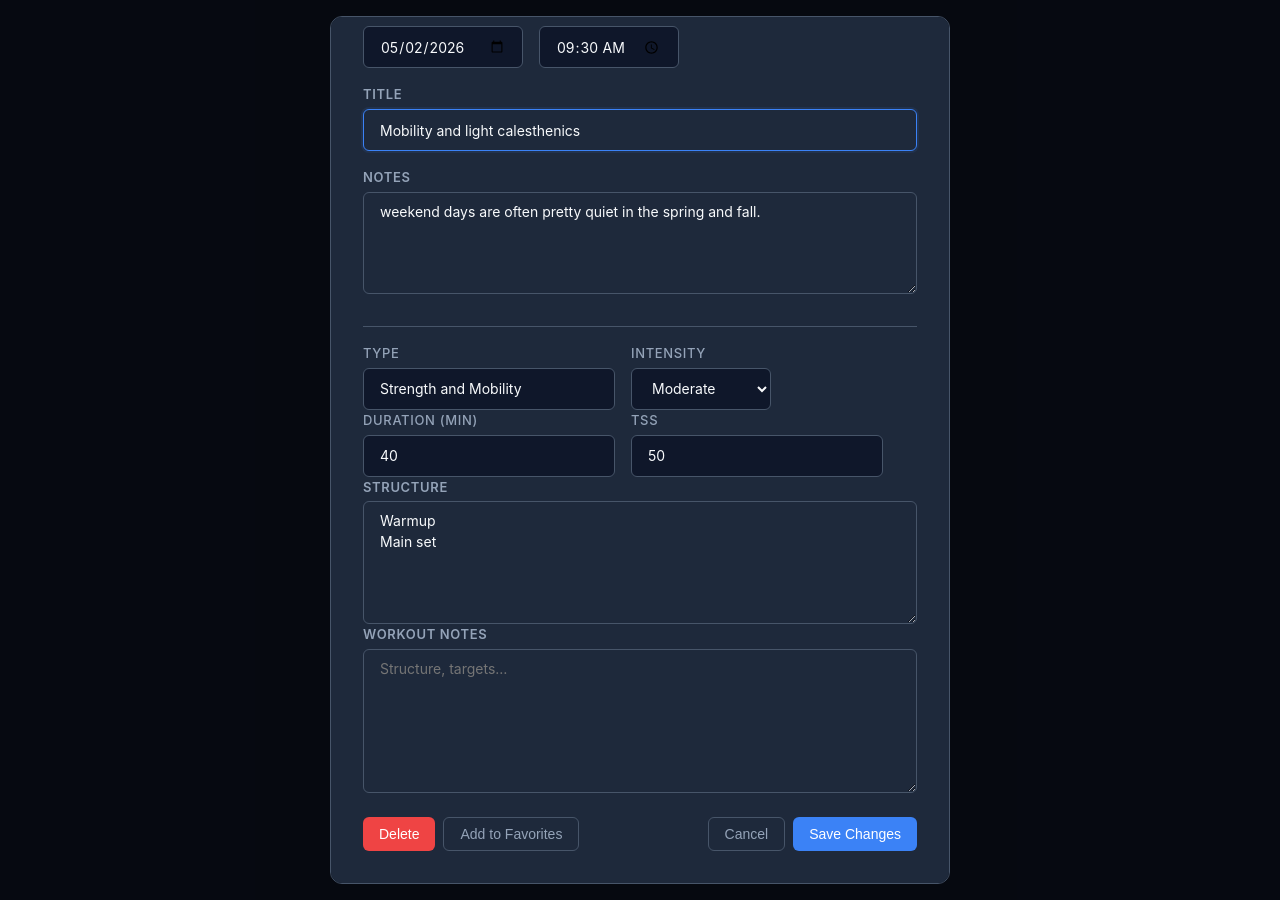
Test: EventModal favorites › adds an edited user-created workout to favorites from edit mode
(page scrolled)
Click the button "Add to Favorites" at (511, 834), box [444,817,579,851]
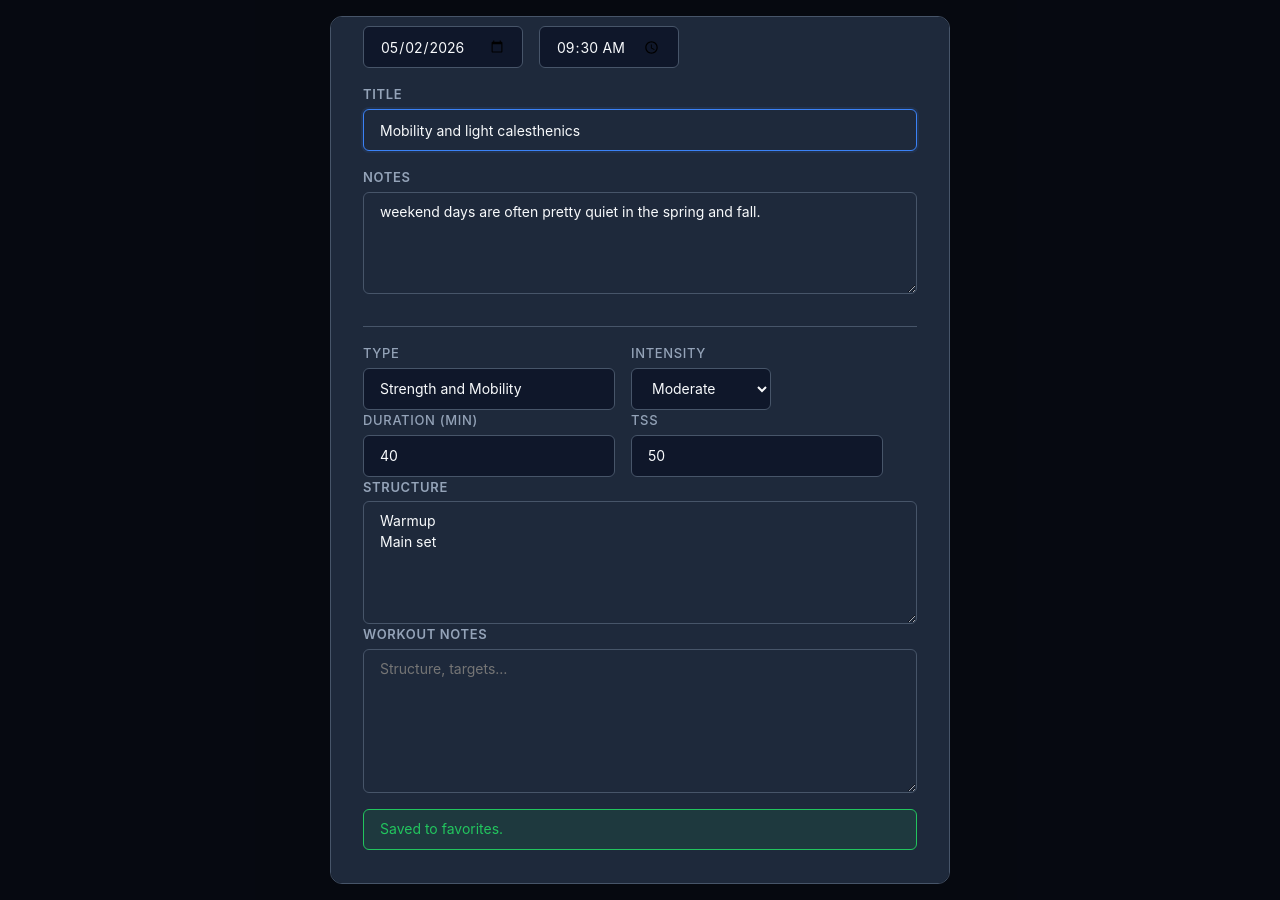
Now the text "Saved to favorites." is shown, box [363,809,917,850]
